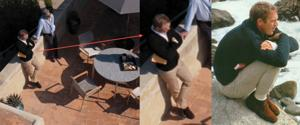C_cardigan sweater: (216, 16, 298, 82)
